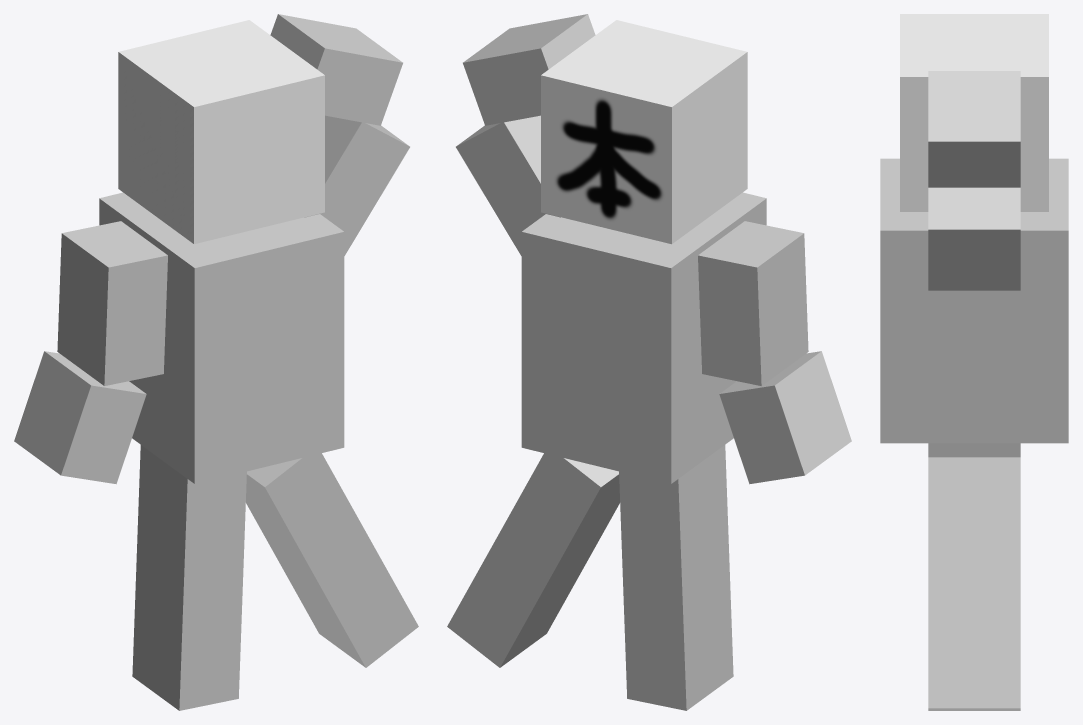
File: moto.gltf
3 views of the same model, side by side, from view 1: azimuth 30°, elevation 25°; view 2: azimuth 150°, elevation 25°; view 3: azimuth 270°, elevation 25° (orthographic).
Visible parts, largest first — view 1: 立方体.001, 立方体, 立方体.004, 立方体.003, 立方体.005, 立方体.006, 立方体.008, 立方体.007; view 2: 立方体.001, 立方体, 立方体.004, 立方体.003, 立方体.005, 立方体.006, 立方体.008, 立方体.007; view 3: 立方体.001, 立方体.003, 立方体, 立方体.008, 立方体.007, 立方体.004.
Part boxes in pixels (x1,y1,x2,y2): 立方体.001: (99,192,344,483); 立方体: (118,20,324,244); 立方体.004: (132,445,246,710); 立方体.003: (246,453,418,667); 立方体.005: (57,221,167,385); 立方体.006: (14,351,146,484); 立方体.008: (270,14,402,125); 立方体.007: (304,115,409,255); 立方体.001: (521,192,766,483); 立方体: (541,20,747,244); 立方体.004: (619,445,733,710); 立方体.003: (447,453,619,667); 立方体.005: (698,221,808,385); 立方体.006: (719,351,851,484); 立方体.008: (463,14,595,125); 立方体.007: (456,115,561,255); 立方体.001: (880,158,1068,443); 立方体.003: (928,457,1020,710); 立方体: (900,14,1048,211); 立方体.008: (928,71,1020,187); 立方体.007: (928,187,1020,290); 立方体.004: (928,443,1020,457).
Size of the model in its own units: 2.06 by 3.46 by 0.951.
Materials: 2 (1 with a texture image).
